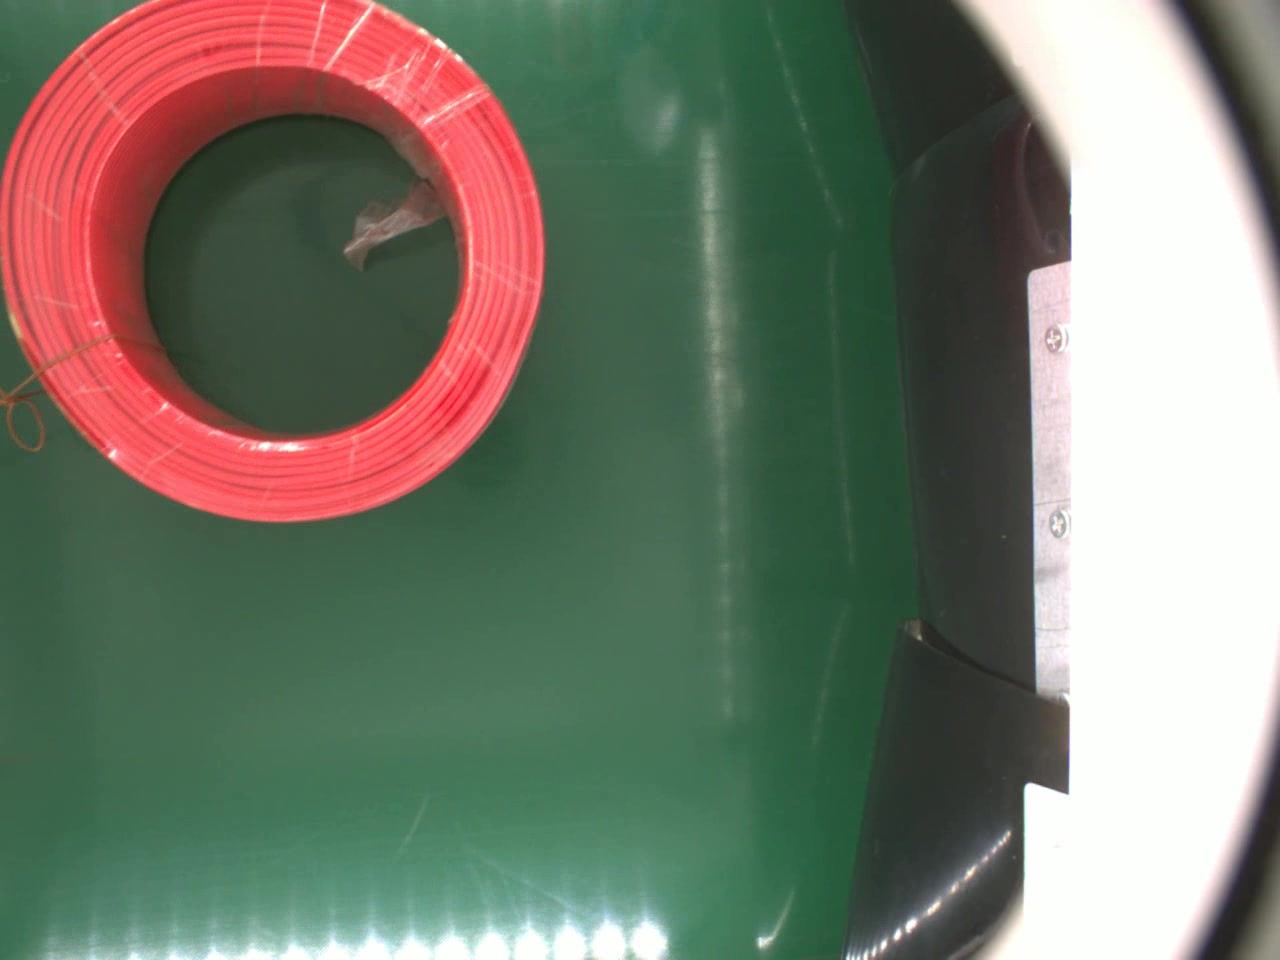red: (2, 0, 546, 528)
